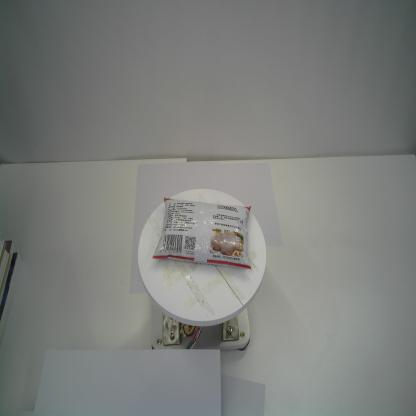Seasoner: (151, 196, 256, 274)
